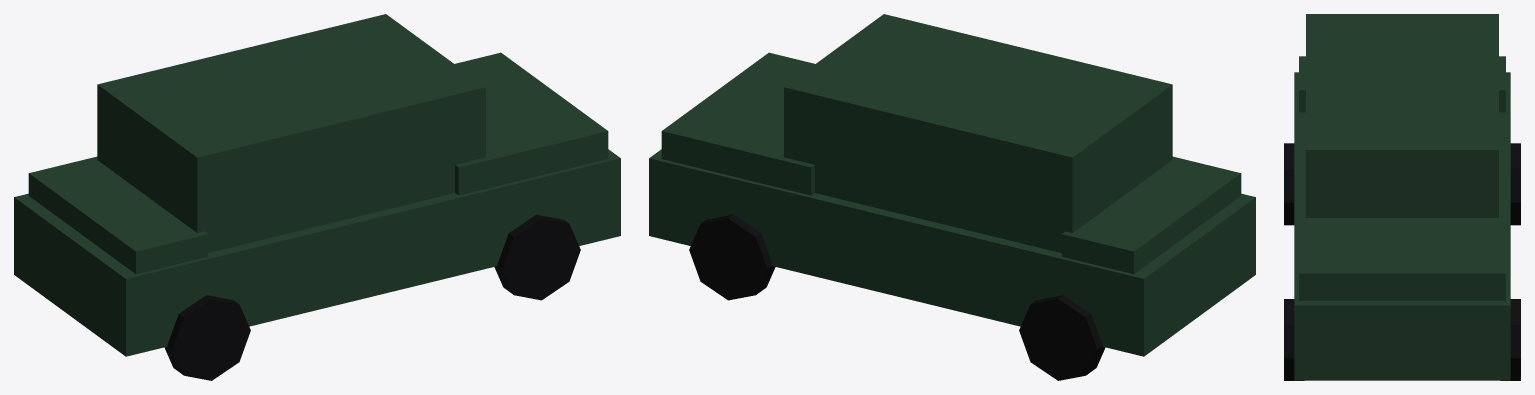
File: proxy_suv_green.dae
The picture shows the model from 3 angles, left to right: view 1: azimuth 30°, elevation 25°; view 2: azimuth 150°, elevation 25°; view 3: azimuth 270°, elevation 25°; orthographic projection. The views are drawn at different scales.
Visible parts, largest first — view 1: proxy_suv; view 2: proxy_suv; view 3: proxy_suv.
Boxes of the visible parts, x1,y1,x2,y2 form: proxy_suv: (14,14,620,380); proxy_suv: (649,14,1255,380); proxy_suv: (1284,14,1520,380).
Size of the model in its own units: 4.8 by 2.06 by 2.
